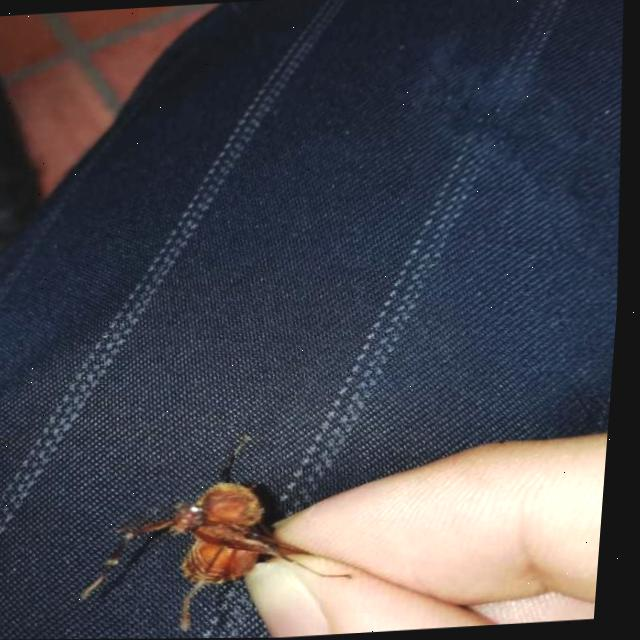Alive-Male-Alate: (76, 435, 379, 639)
